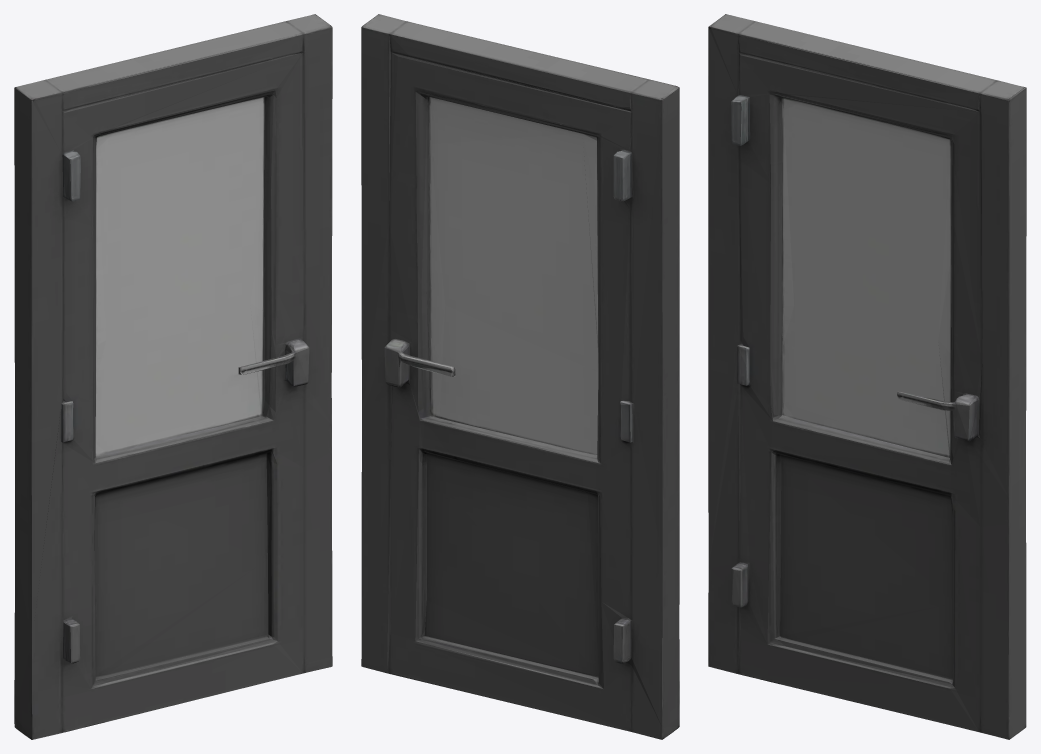
The model's file is metal-door.glb.
3 renders of one model, left to right at view 1: azimuth 30°, elevation 25°; view 2: azimuth 150°, elevation 25°; view 3: azimuth 330°, elevation 25°, orthographic.
Visible parts, largest first — view 1: geometry_0; view 2: geometry_0; view 3: geometry_0.
Part boxes in pixels (left/top/right/bottom): geometry_0: left=14, top=14, right=332, bottom=739; geometry_0: left=361, top=14, right=679, bottom=739; geometry_0: left=708, top=14, right=1026, bottom=739.
Size of the model in its own units: 0.4921 by 1 by 0.1094.
Materials: 1 (1 with a texture image).
